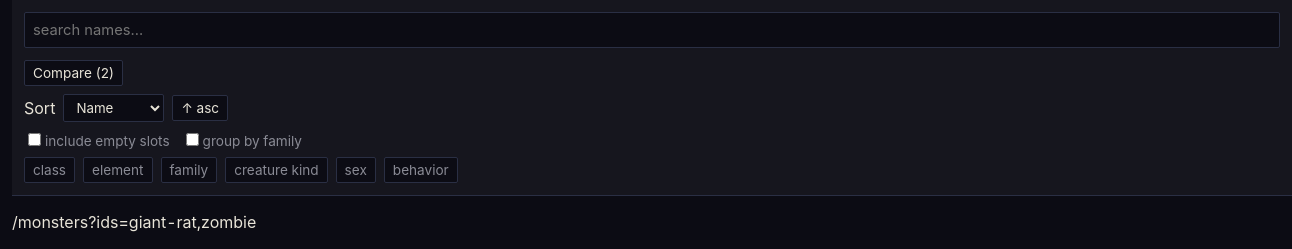
Scenario: MonsterFilters › clicking Compare navigates to /monsters/compare with same ids
Click the button "Compare (2)": [74, 73] box [24, 60, 123, 86]
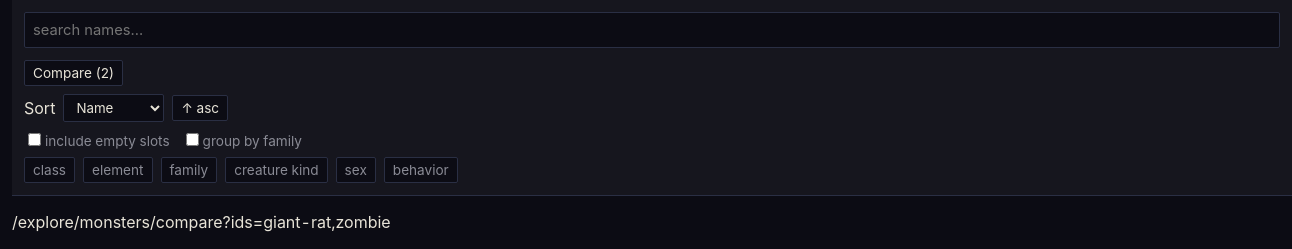
Check: the text with test id "location" reads "/explore/monsters/compare?ids=giant-rat,zombie", box [12, 212, 391, 232]
